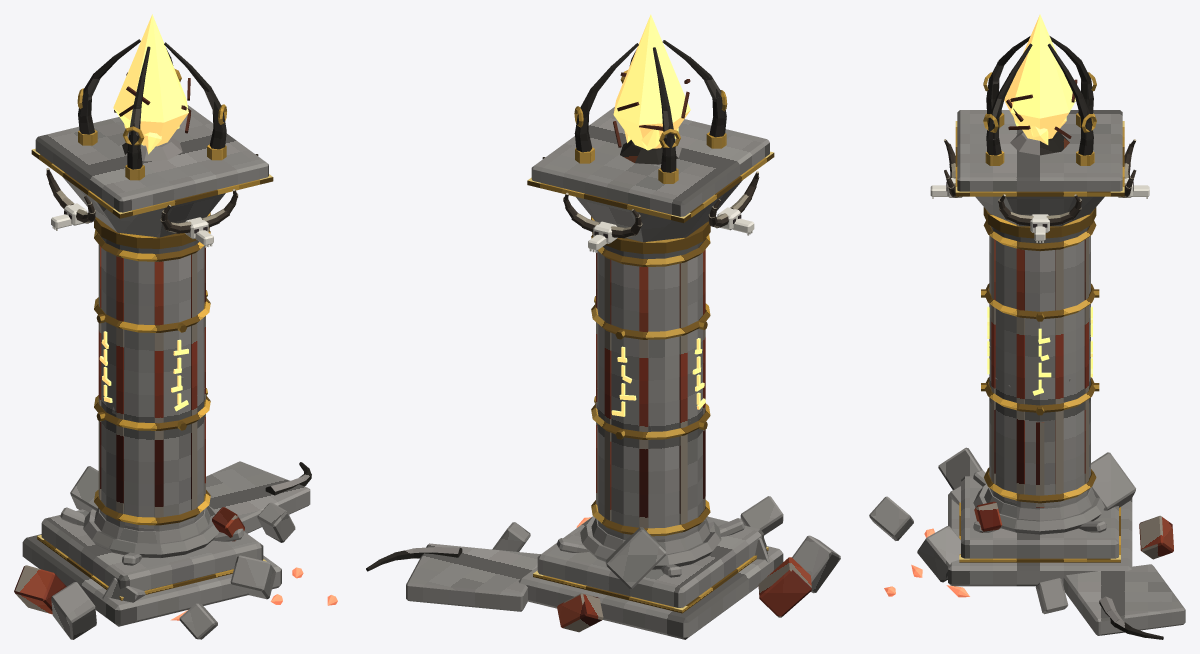
The model's file is boss_column.glb.
3 renders of one model, left to right at view 1: azimuth 30°, elevation 25°; view 2: azimuth 150°, elevation 25°; view 3: azimuth 270°, elevation 25°, orthographic. The views are drawn at different scales.
Visible parts, largest first — view 1: shaft, plinth, rubble, crystal, stub, runes; view 2: shaft, plinth, rubble, stub, crystal, runes; view 3: shaft, rubble, plinth, crystal, stub, runes, shards.
Part boxes in pixels (left/top/right/bottom): shaft: left=31, top=39, right=273, bottom=531; plinth: left=22, top=505, right=281, bottom=626; rubble: left=14, top=461, right=311, bottom=639; crystal: left=113, top=14, right=188, bottom=154; stub: left=102, top=377, right=204, bottom=529; runes: left=99, top=331, right=188, bottom=411; shaft: left=527, top=40, right=774, bottom=541; plinth: left=518, top=516, right=783, bottom=639; rubble: left=366, top=496, right=840, bottom=632; stub: left=597, top=388, right=704, bottom=542; crystal: left=613, top=14, right=690, bottom=150; runes: left=611, top=338, right=705, bottom=416; shaft: left=930, top=36, right=1149, bottom=508; rubble: left=869, top=447, right=1185, bottom=639; plinth: left=948, top=470, right=1132, bottom=586; crystal: left=1004, top=14, right=1075, bottom=144; stub: left=989, top=345, right=1090, bottom=507; runes: left=987, top=306, right=1092, bottom=395; shards: left=884, top=528, right=969, bottom=597.
Bounding box in the file's own units: 2.13 × 3.18 × 1.68.
Materials: 11 (5 with a texture image).
